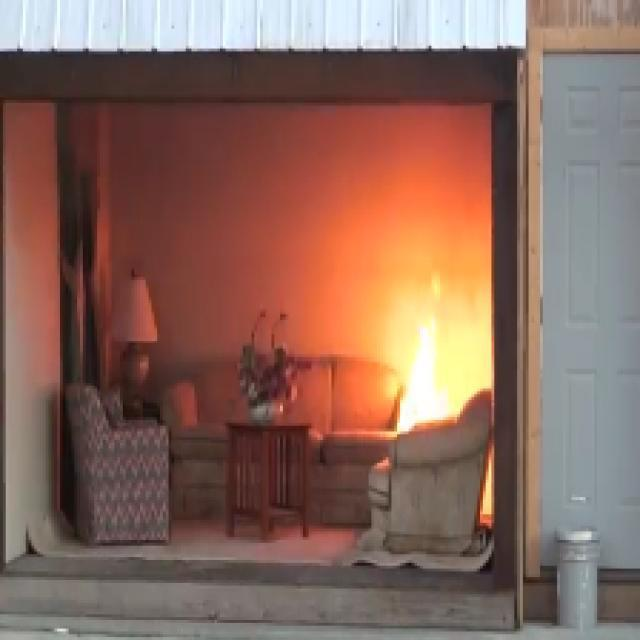Fire: (371, 262, 446, 456)
